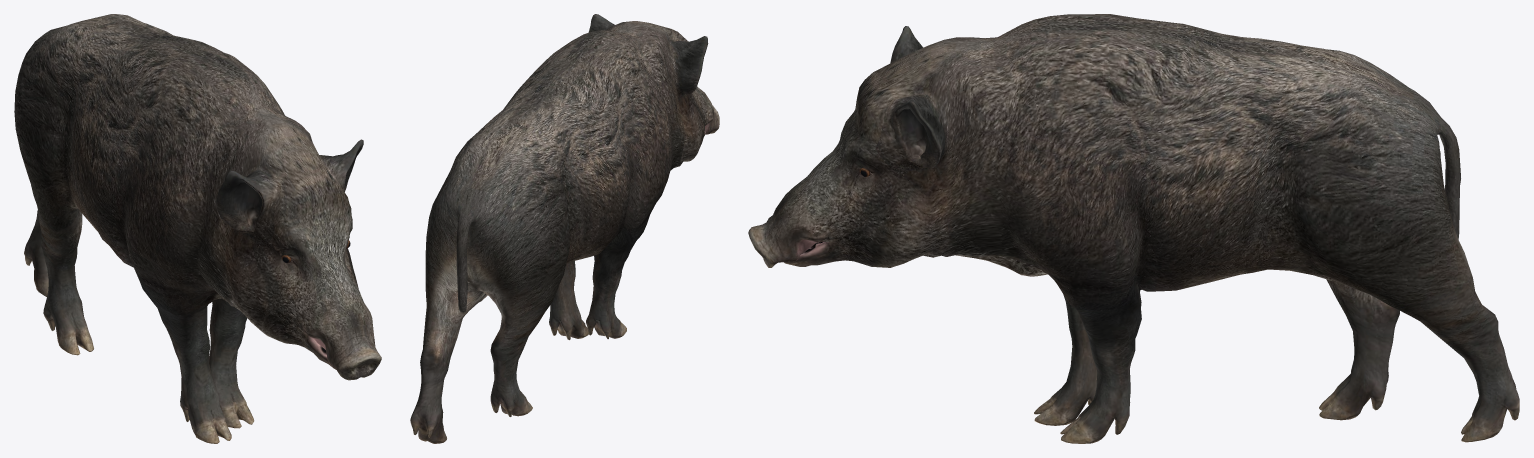
File: a_boar.glb
The picture shows the model from 3 angles, left to right: view 1: azimuth 30°, elevation 25°; view 2: azimuth 150°, elevation 25°; view 3: azimuth 270°, elevation 25°; orthographic projection. The views are drawn at different scales.
Visible parts, largest first — view 1: Goose.003_applied_clean_M_Goose2_0_M_Boar_0; view 2: Goose.003_applied_clean_M_Goose2_0_M_Boar_0; view 3: Goose.003_applied_clean_M_Goose2_0_M_Boar_0.
Boxes of the visible parts, box(x1,y1,x2,y2) form: Goose.003_applied_clean_M_Goose2_0_M_Boar_0: box(14, 14, 381, 443); Goose.003_applied_clean_M_Goose2_0_M_Boar_0: box(410, 14, 719, 443); Goose.003_applied_clean_M_Goose2_0_M_Boar_0: box(748, 14, 1519, 443).
Size of the model in its own units: 0.3703 by 0.8146 by 1.4.
Materials: 1 (1 with a texture image).
